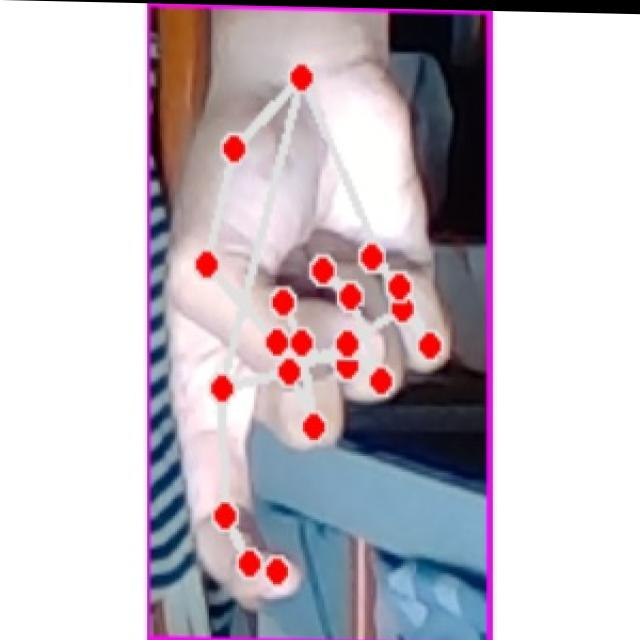X: (167, 51, 463, 622)
